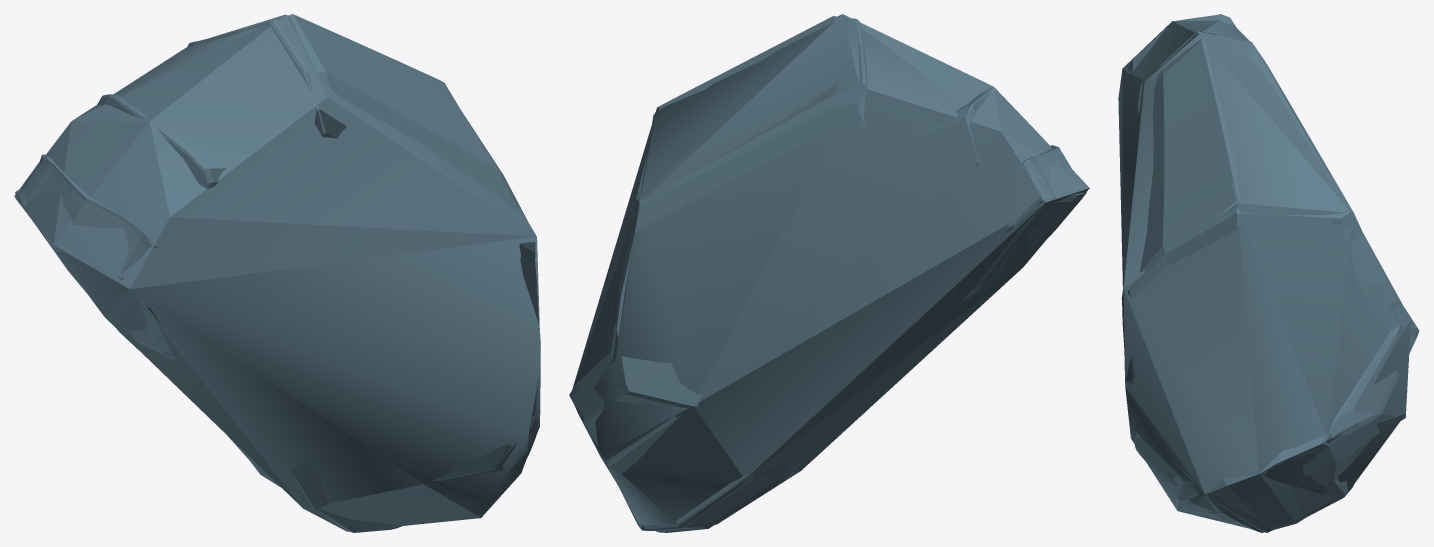
File: rocks_sharp_G.fbx
The picture shows the model from 3 angles, left to right: view 1: azimuth 30°, elevation 25°; view 2: azimuth 150°, elevation 25°; view 3: azimuth 270°, elevation 25°; orthographic projection. The views are drawn at different scales.
Parts seen in each view (by area): view 1: c_ROCKSSHARP_G, ROCKSSHARP_G; view 2: c_ROCKSSHARP_G, ROCKSSHARP_G; view 3: c_ROCKSSHARP_G, ROCKSSHARP_G.
Part boxes in pixels (box(x1,y1,x2,y2)): c_ROCKSSHARP_G: box(14, 14, 540, 531); ROCKSSHARP_G: box(15, 14, 540, 532); c_ROCKSSHARP_G: box(570, 14, 1089, 530); ROCKSSHARP_G: box(569, 16, 1086, 532); c_ROCKSSHARP_G: box(1118, 20, 1410, 532); ROCKSSHARP_G: box(1120, 14, 1419, 532).
Bounding box in the file's own units: 93.4 × 101 × 62.18.
